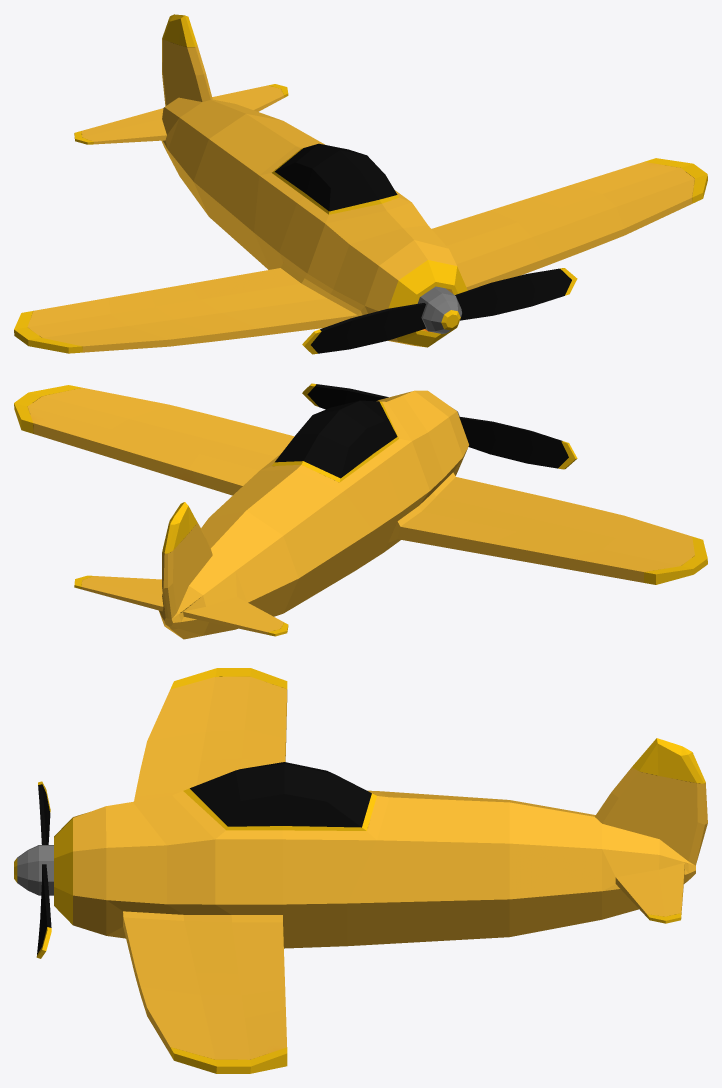
File: incoming-plane-yellow-orange.glb
The picture shows the model from 3 angles, top to bottom: view 1: azimuth 30°, elevation 25°; view 2: azimuth 150°, elevation 25°; view 3: azimuth 270°, elevation 25°; orthographic projection. The views are drawn at different scales.
Visible parts, largest first — view 1: Fuselagem, Helice; view 2: Fuselagem, Helice; view 3: Fuselagem, Helice.
Part boxes in pixels (left/top/right/bottom): Fuselagem: left=14, top=14, right=707, bottom=353; Helice: left=302, top=268, right=577, bottom=354; Fuselagem: left=14, top=385, right=707, bottom=639; Helice: left=302, top=383, right=577, bottom=469; Fuselagem: left=54, top=668, right=707, bottom=1073; Helice: left=14, top=781, right=53, bottom=958.
Size of the model in its own units: 12.92 by 3.14 by 9.51.
Materials: 4 (1 with a texture image).
